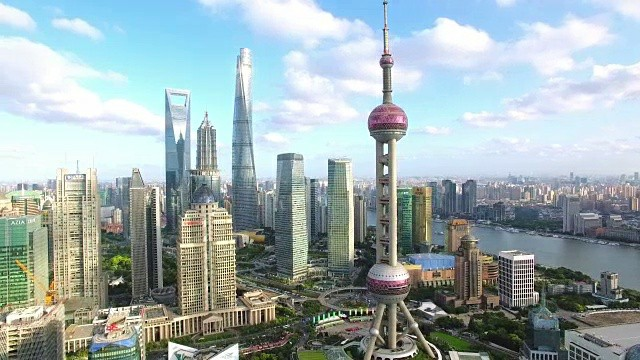Oriental: (364, 2, 434, 360)
